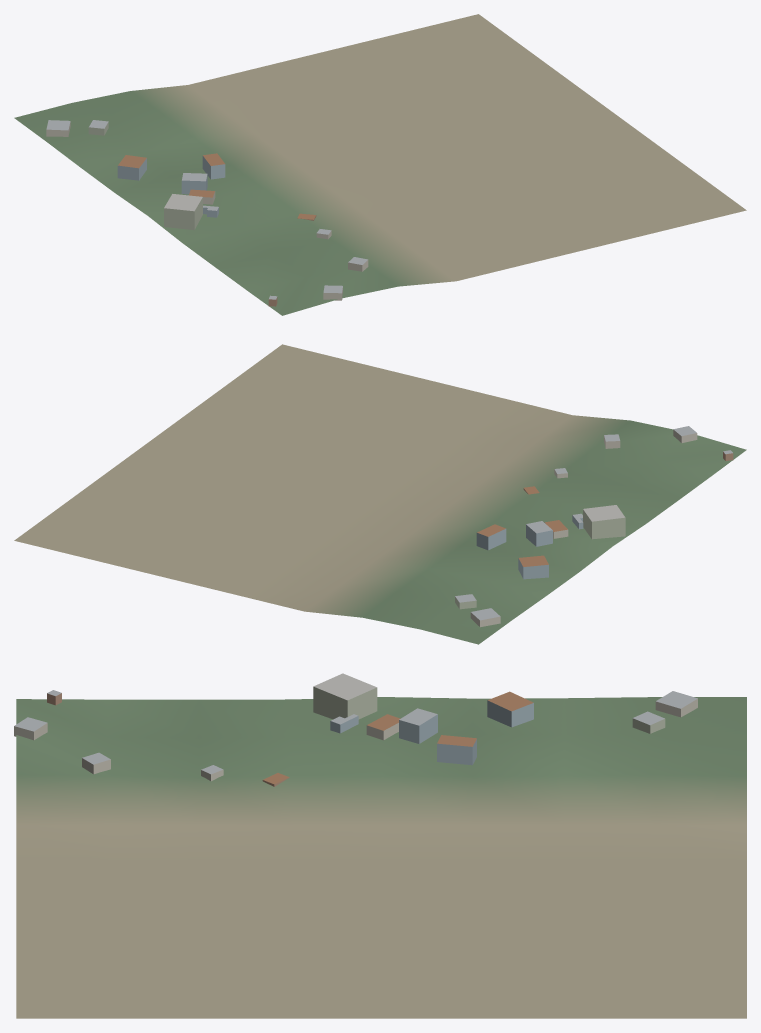
The picture shows the model from 3 angles, top to bottom: view 1: azimuth 30°, elevation 25°; view 2: azimuth 150°, elevation 25°; view 3: azimuth 270°, elevation 25°; orthographic projection. The views are drawn at different scales.
Parts seen in each view (by area): view 1: Lo; view 2: Lo; view 3: Lo.
Part boxes in pixels (left/top/right/bottom): Lo: left=14, top=14, right=746, bottom=315; Lo: left=14, top=344, right=746, bottom=644; Lo: left=14, top=673, right=746, bottom=1018.
Size of the model in its own units: 256 by 14.48 by 257.
